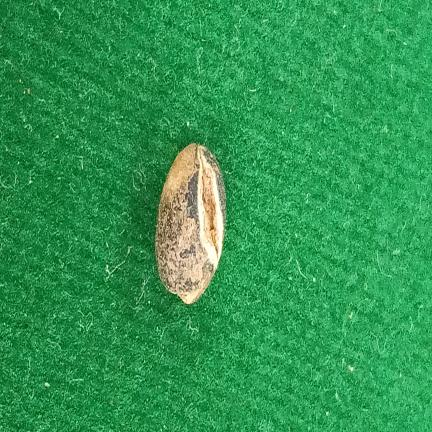partial-black: (155, 143, 226, 304)
